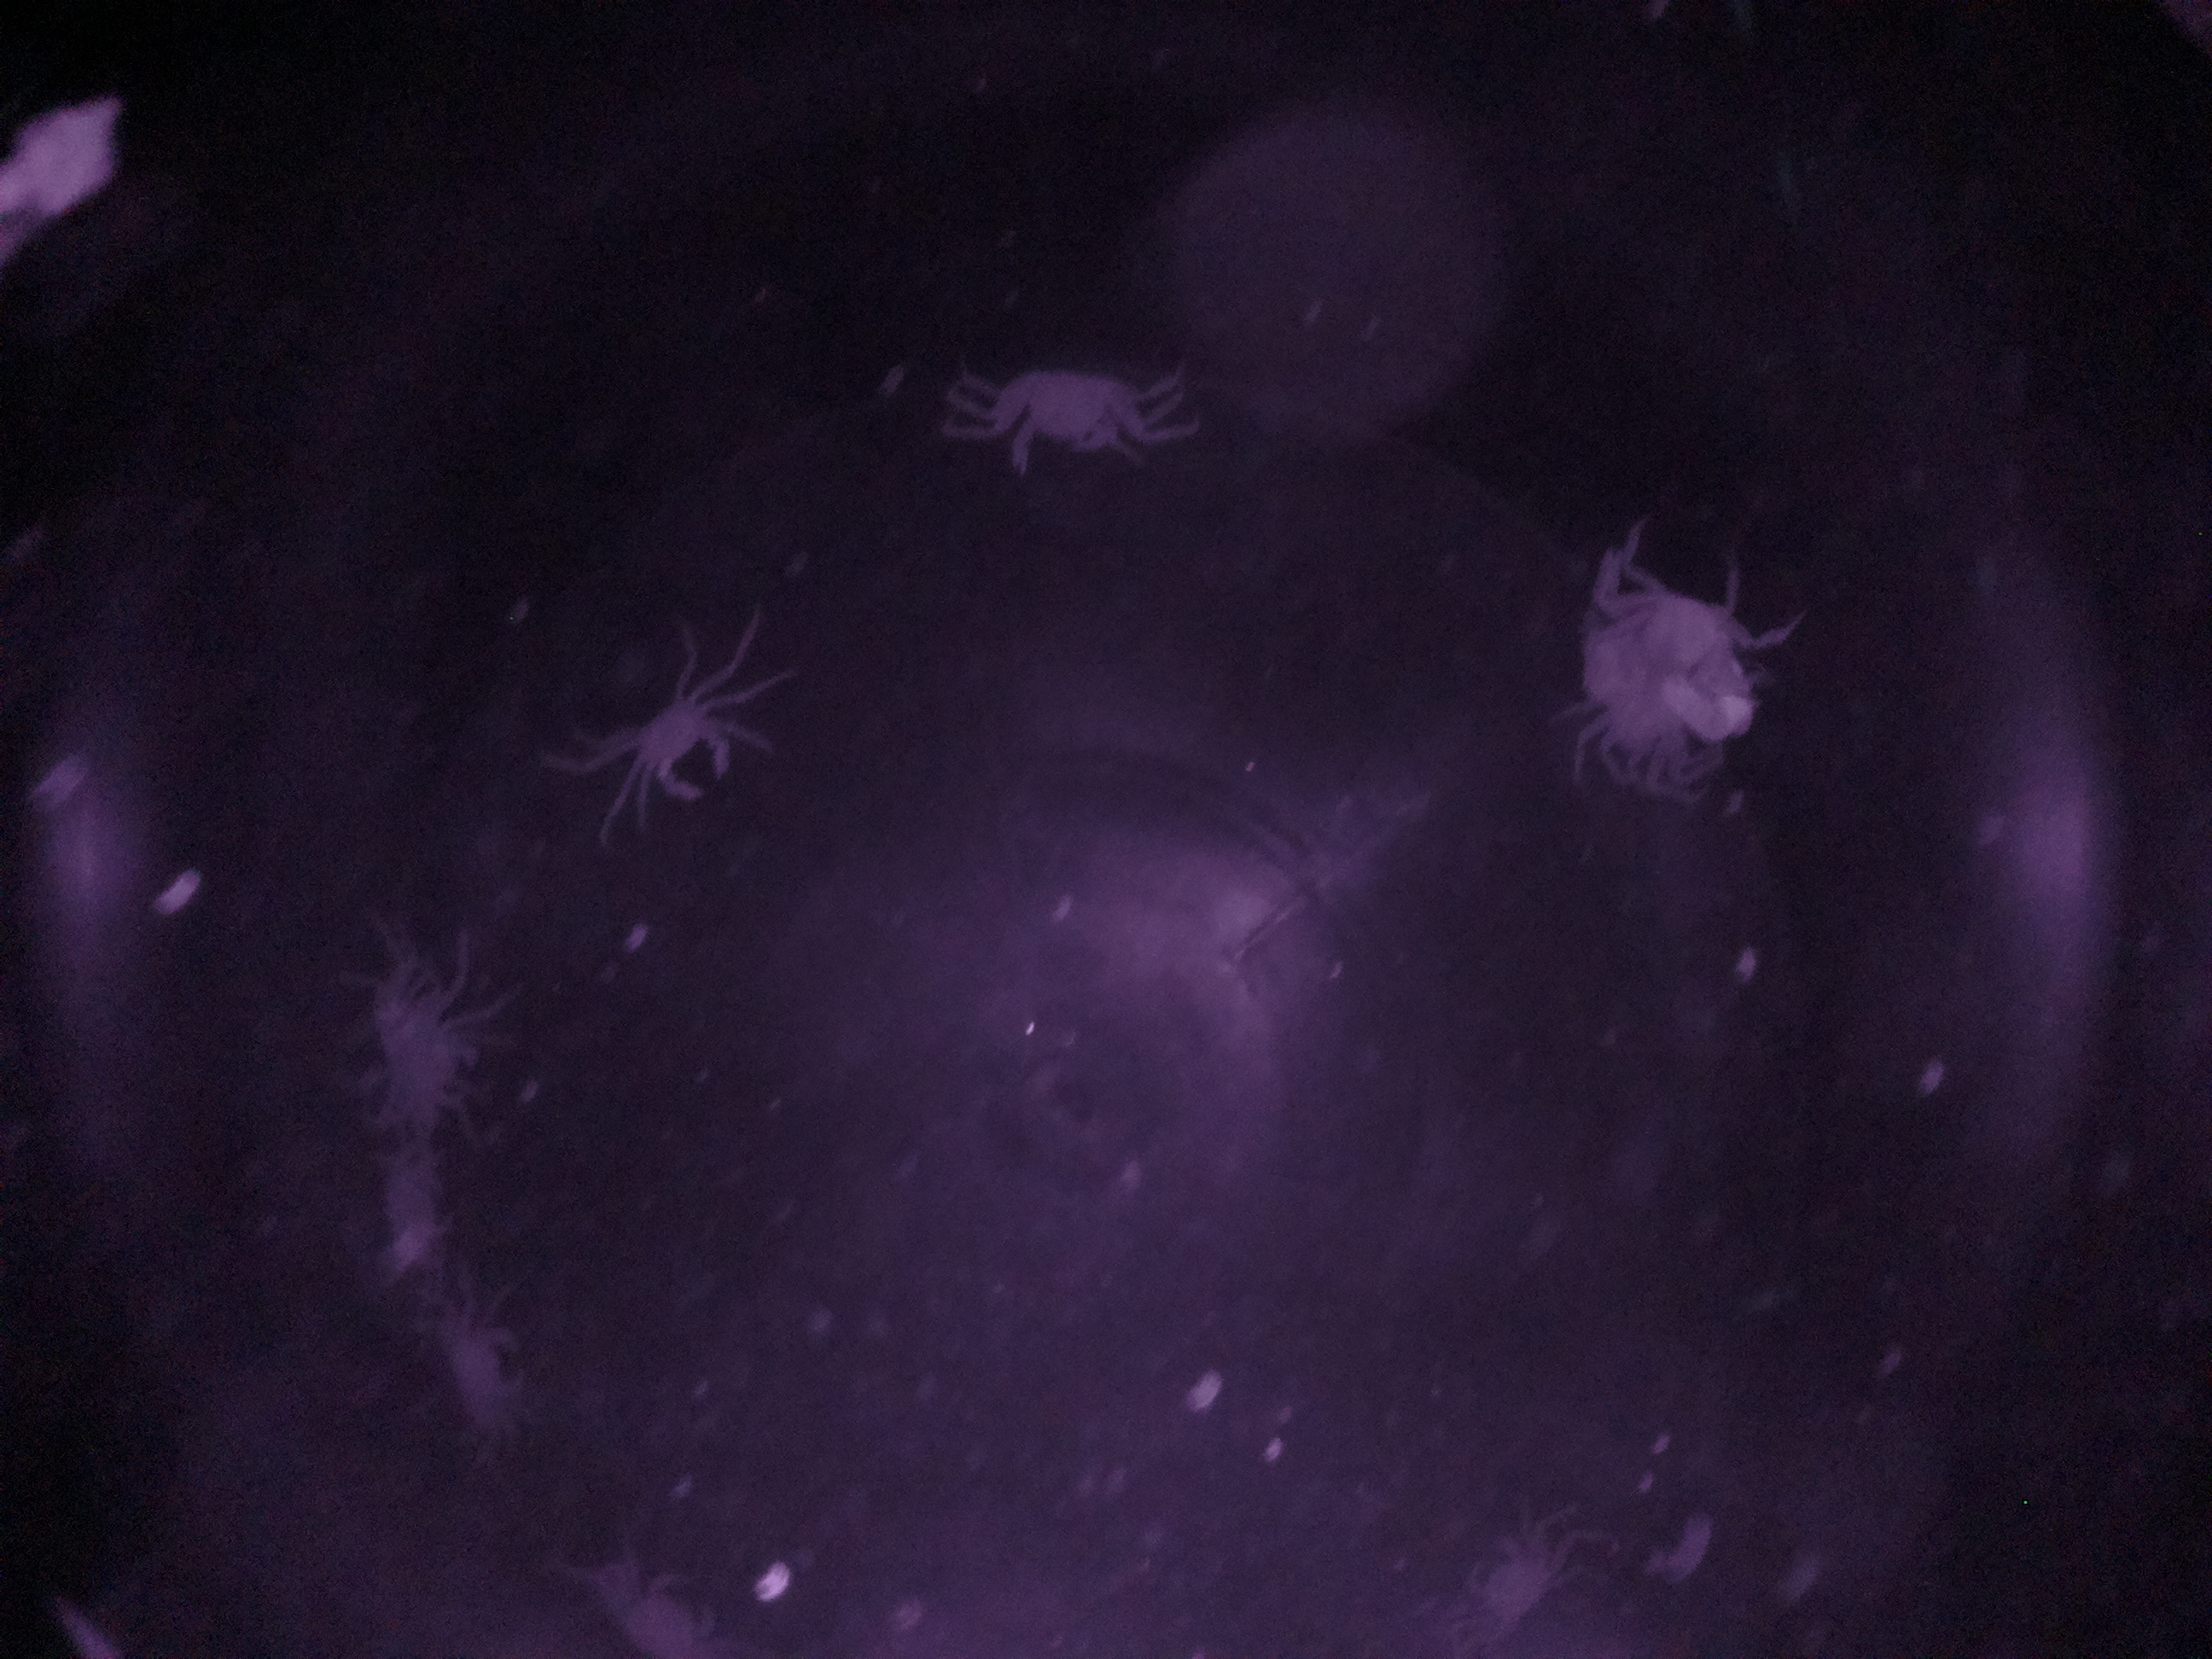Crab: (968, 340, 1165, 498), (599, 653, 765, 816)
